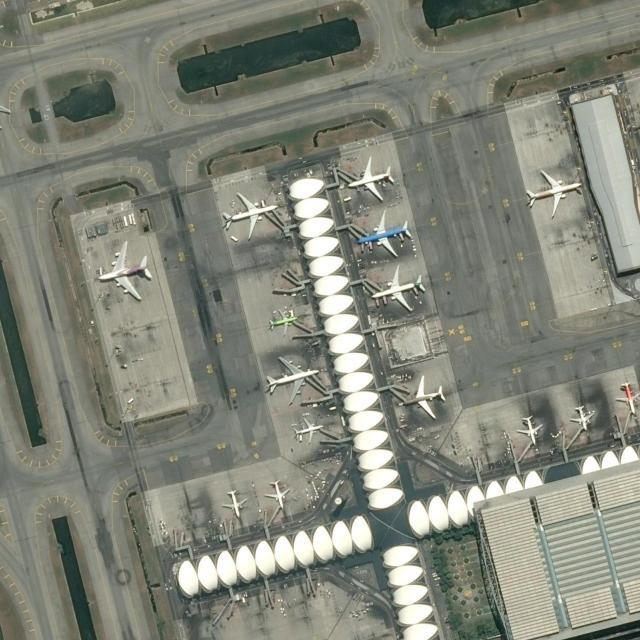Aircraft: (95, 243, 151, 302), (221, 193, 277, 243), (526, 170, 582, 220), (370, 265, 424, 315), (264, 357, 318, 405), (357, 211, 411, 259), (347, 158, 395, 204), (401, 377, 445, 421), (516, 416, 542, 448), (268, 310, 296, 339), (616, 382, 640, 415), (221, 491, 247, 519), (294, 418, 322, 444), (265, 481, 289, 511), (570, 406, 594, 433)
